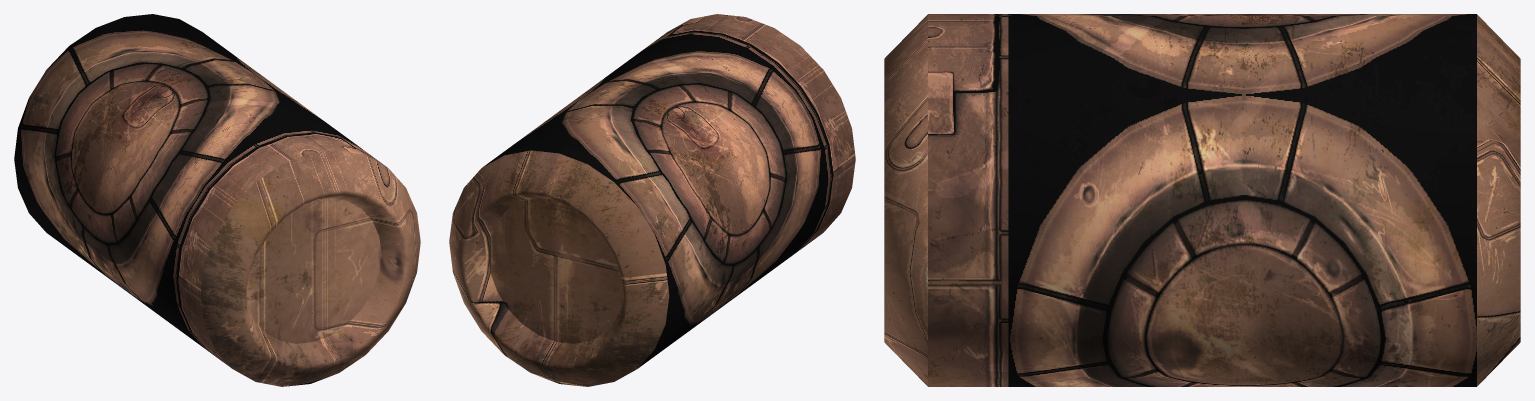
Rendered from barrel.DAE.
3 views of the same model, side by side, from view 1: azimuth 30°, elevation 25°; view 2: azimuth 150°, elevation 25°; view 3: azimuth 270°, elevation 25° (orthographic). The views are drawn at different scales.
Visible parts, largest first — view 1: low_poly; view 2: low_poly; view 3: low_poly.
Part boxes in pixels (x1,y1,x2,y2): low_poly: [14, 14, 420, 386]; low_poly: [449, 14, 855, 386]; low_poly: [884, 14, 1520, 386].
Size of the model in its own units: 303 by 516 by 303.
Materials: 1 (1 with a texture image).
